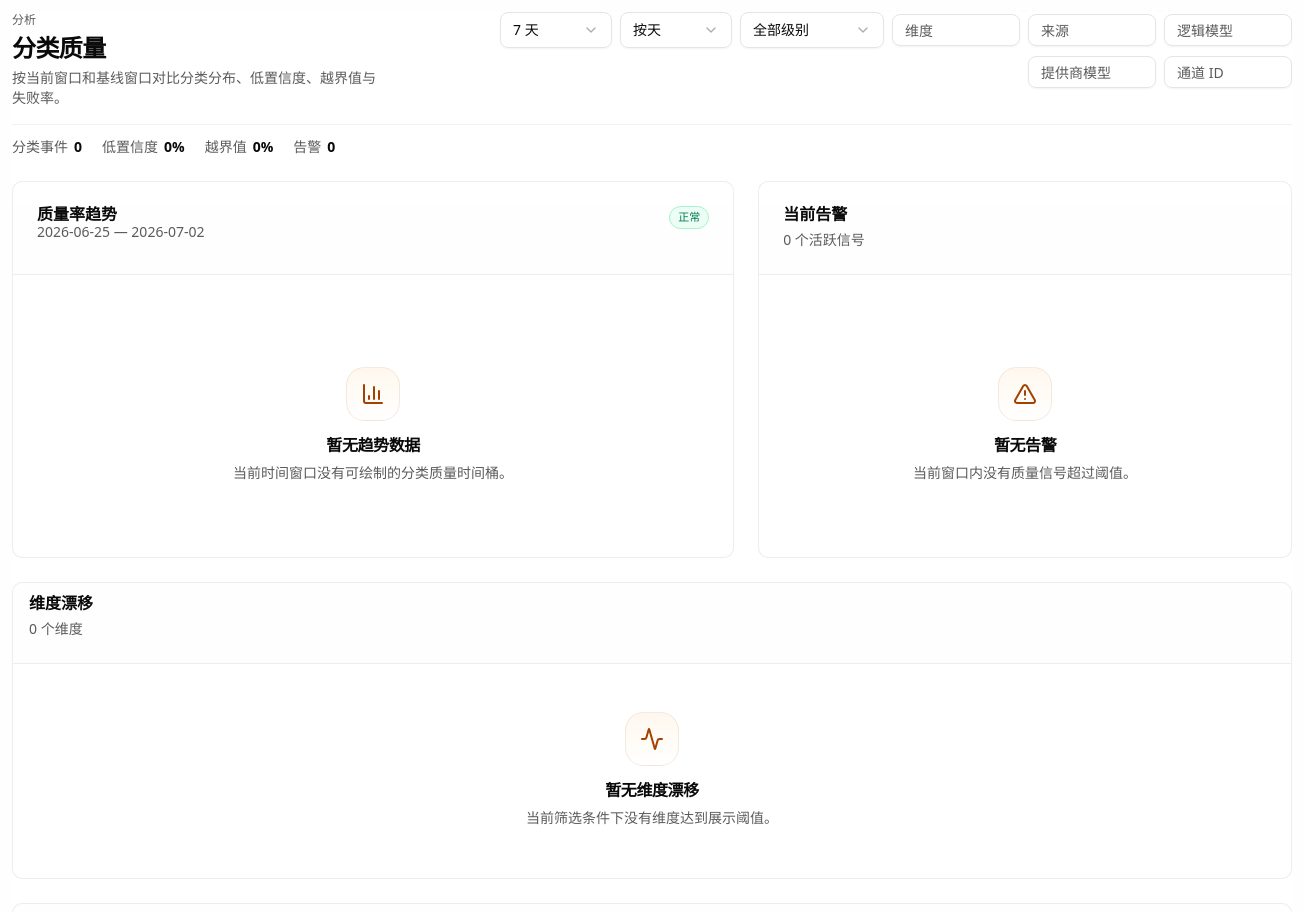
Test: sends advanced filters and clears them without changing the base range
Check: the text "暂无趋势数据" is shown, box [326,434,420,456]
Step 1. Type "priority" into the field labelled "维度" → [956, 30], box [892,14,1020,46]
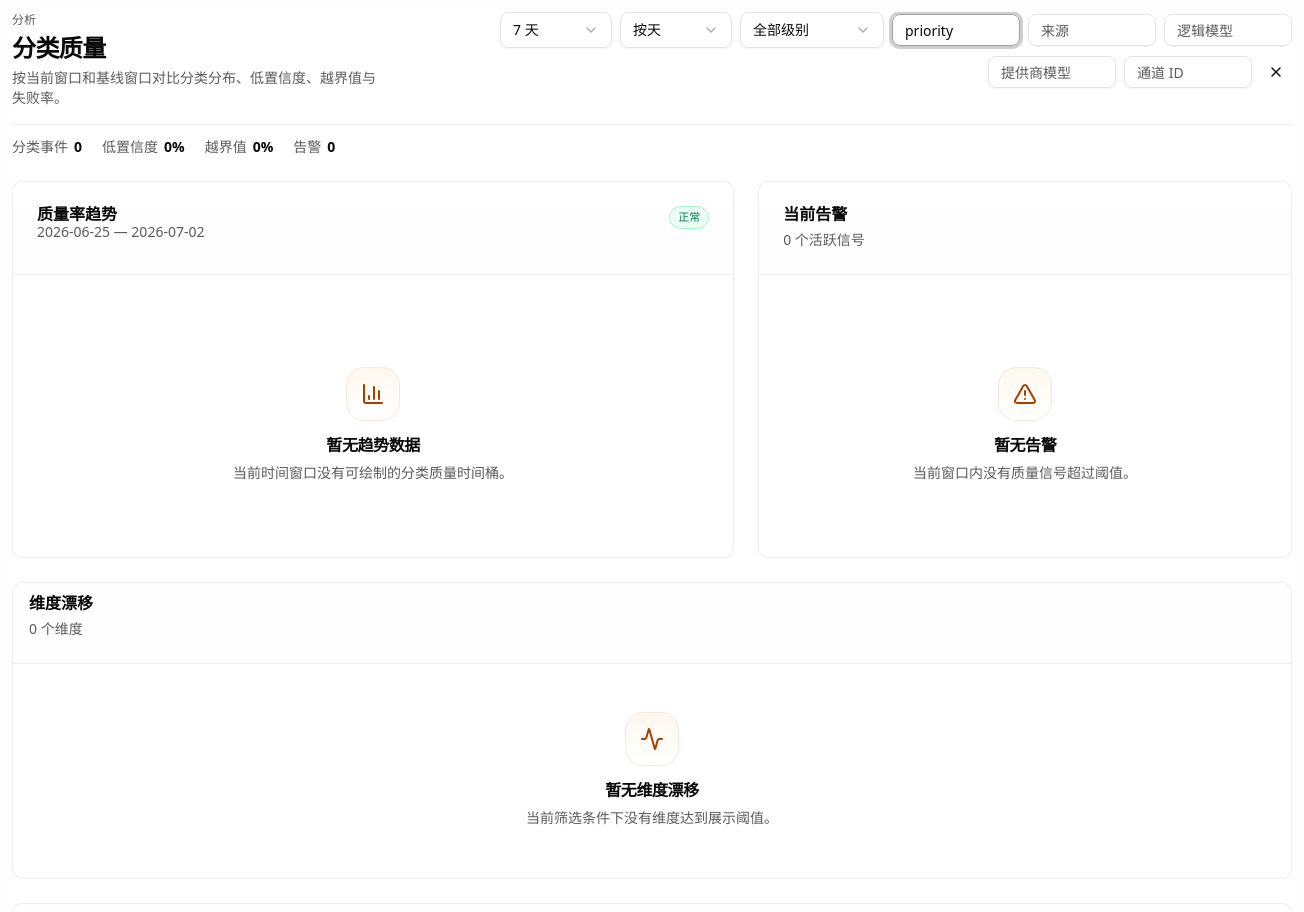
Step 2. Type "api" into the field labelled "来源" → [1092, 30], box [1028,14,1156,46]
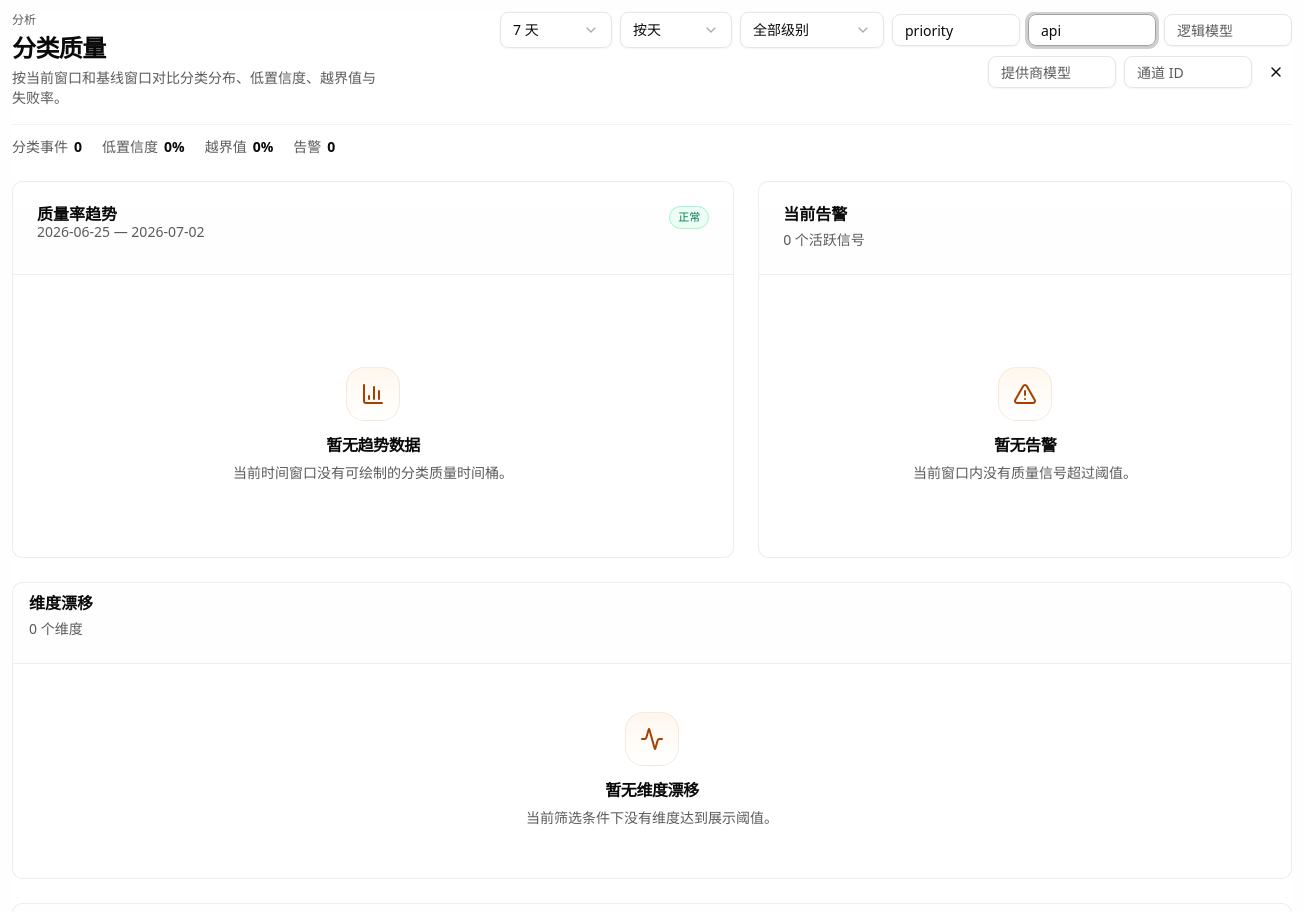
Step 3. Type "enrich-default" into the field labelled "逻辑模型" → [1228, 30], box [1164,14,1292,46]
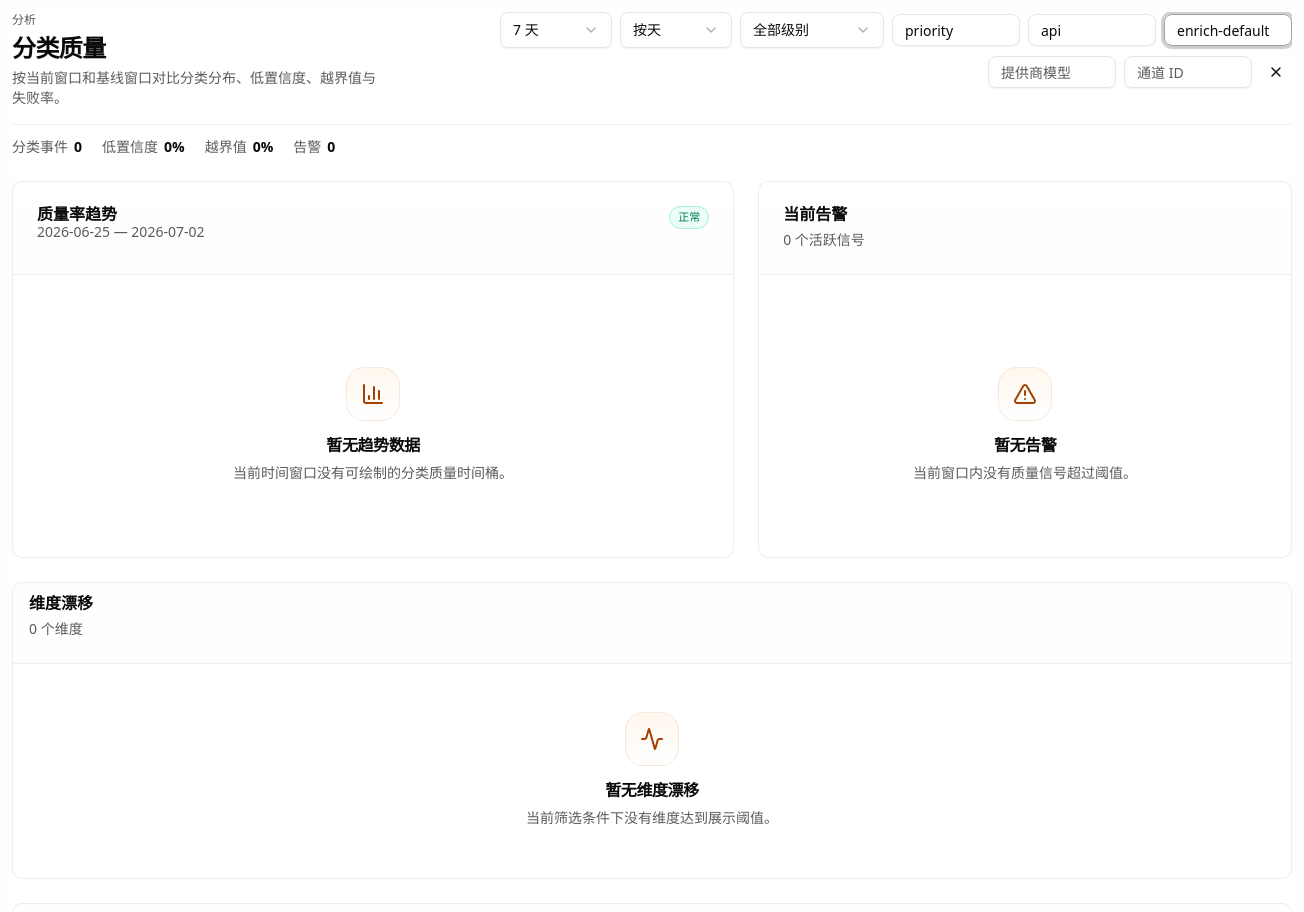
Step 4. Type "gpt-4.1-mini" into the field labelled "提供商模型" → [1052, 72], box [988,56,1116,88]
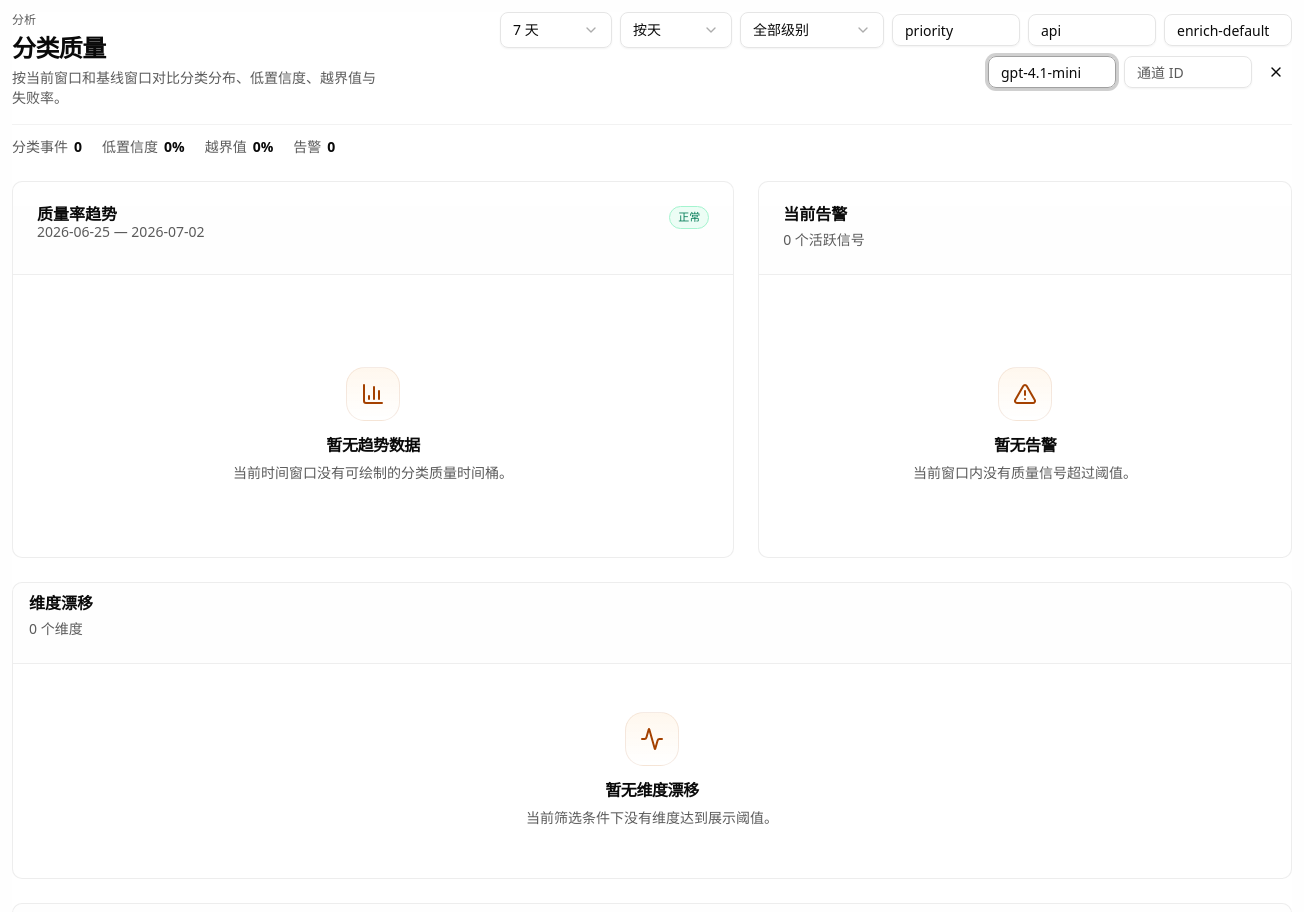
Step 5. Type "primary" into the field labelled "通道 ID" → [1188, 72], box [1124,56,1252,88]
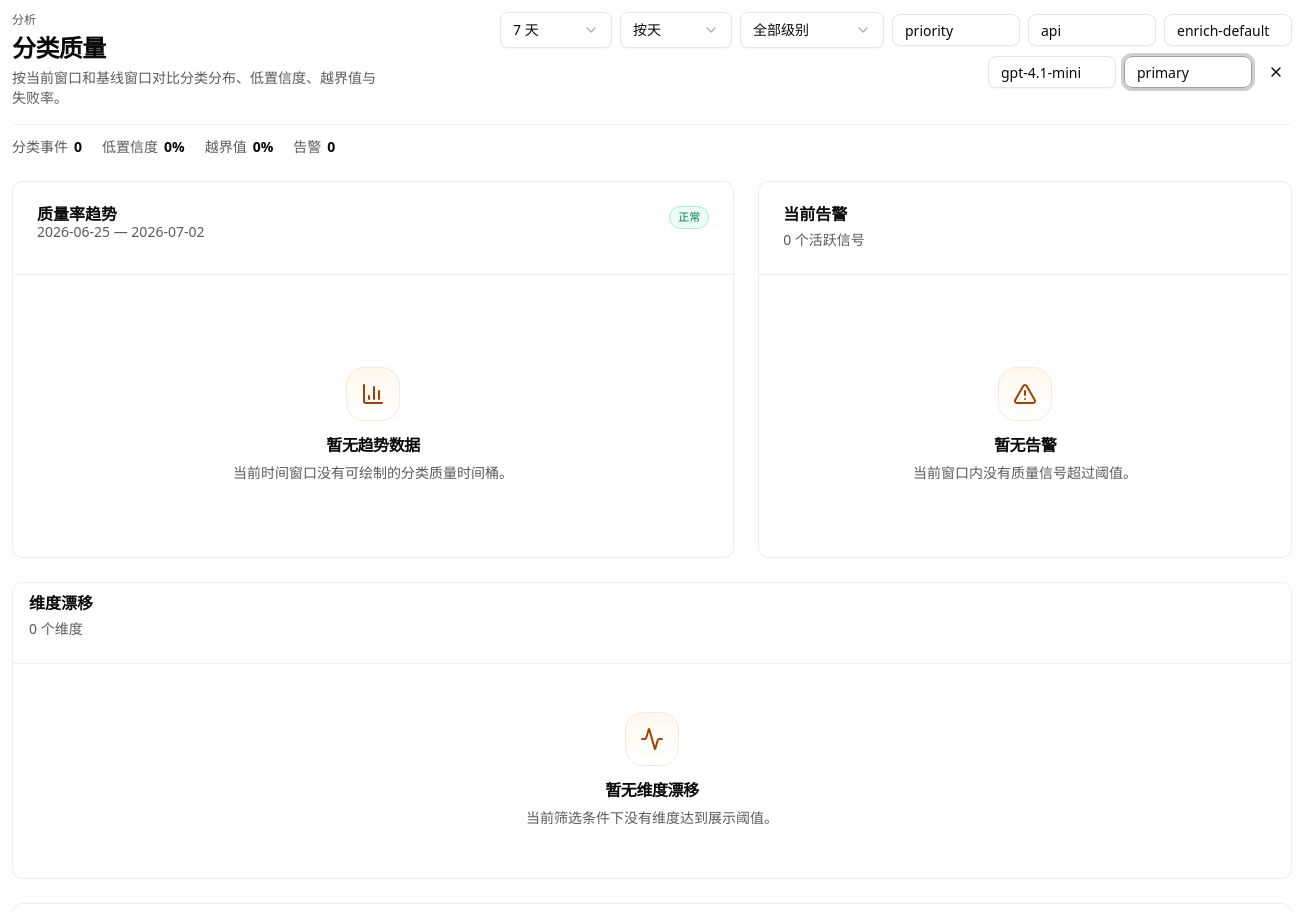
Step 6. Click the button named "清除高级筛选" → [1276, 72], box [1260,56,1292,88]
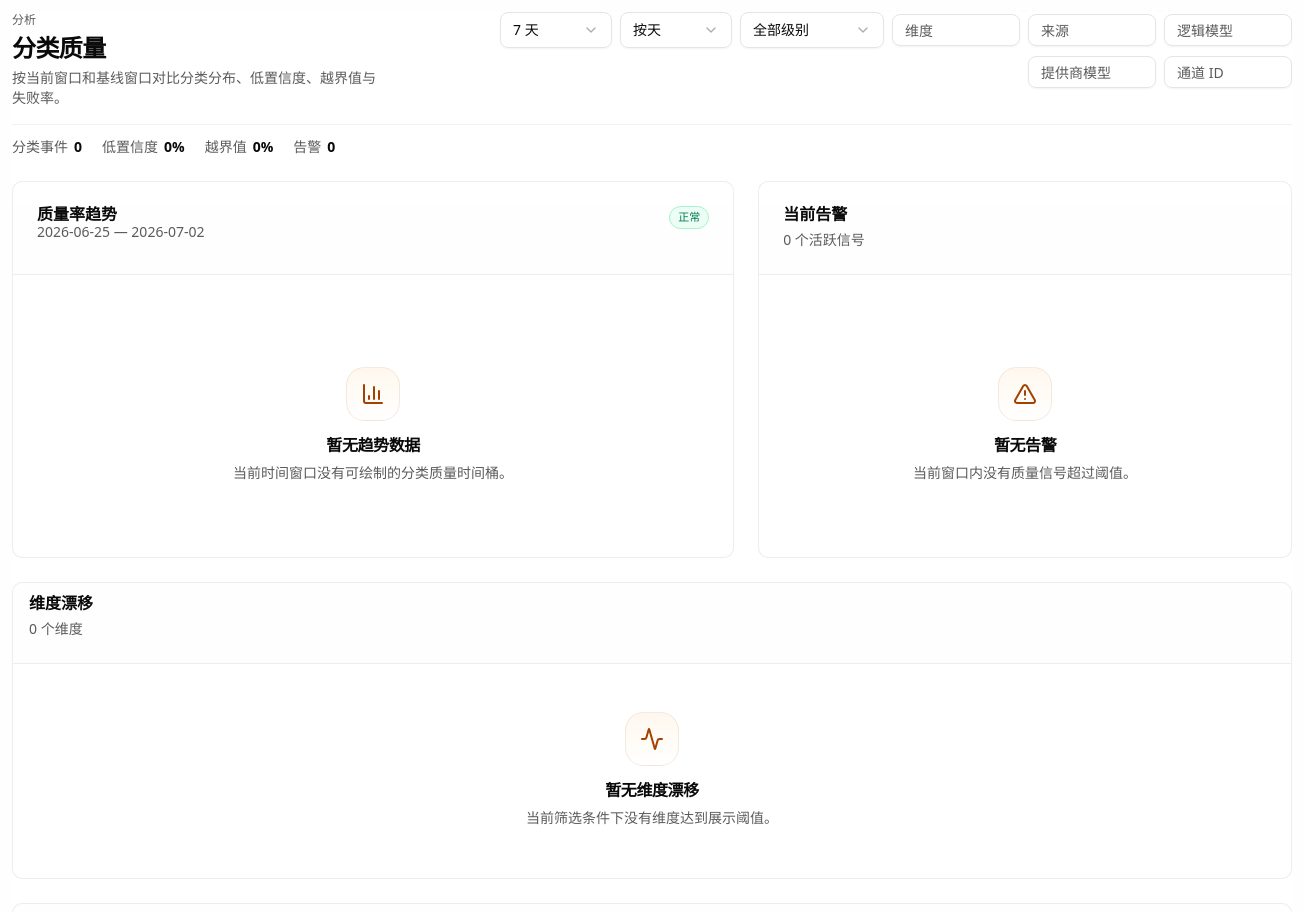
Check: the field labelled "维度" is empty, box [892,14,1020,46]
Check: the field labelled "来源" is empty, box [1028,14,1156,46]
Check: the button "清除高级筛选" is gone
